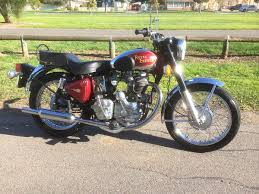bike: (11, 28, 247, 157)
